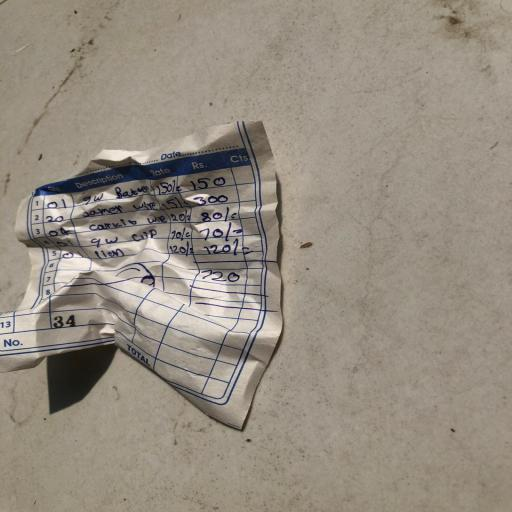waste: (0, 113, 315, 434)
